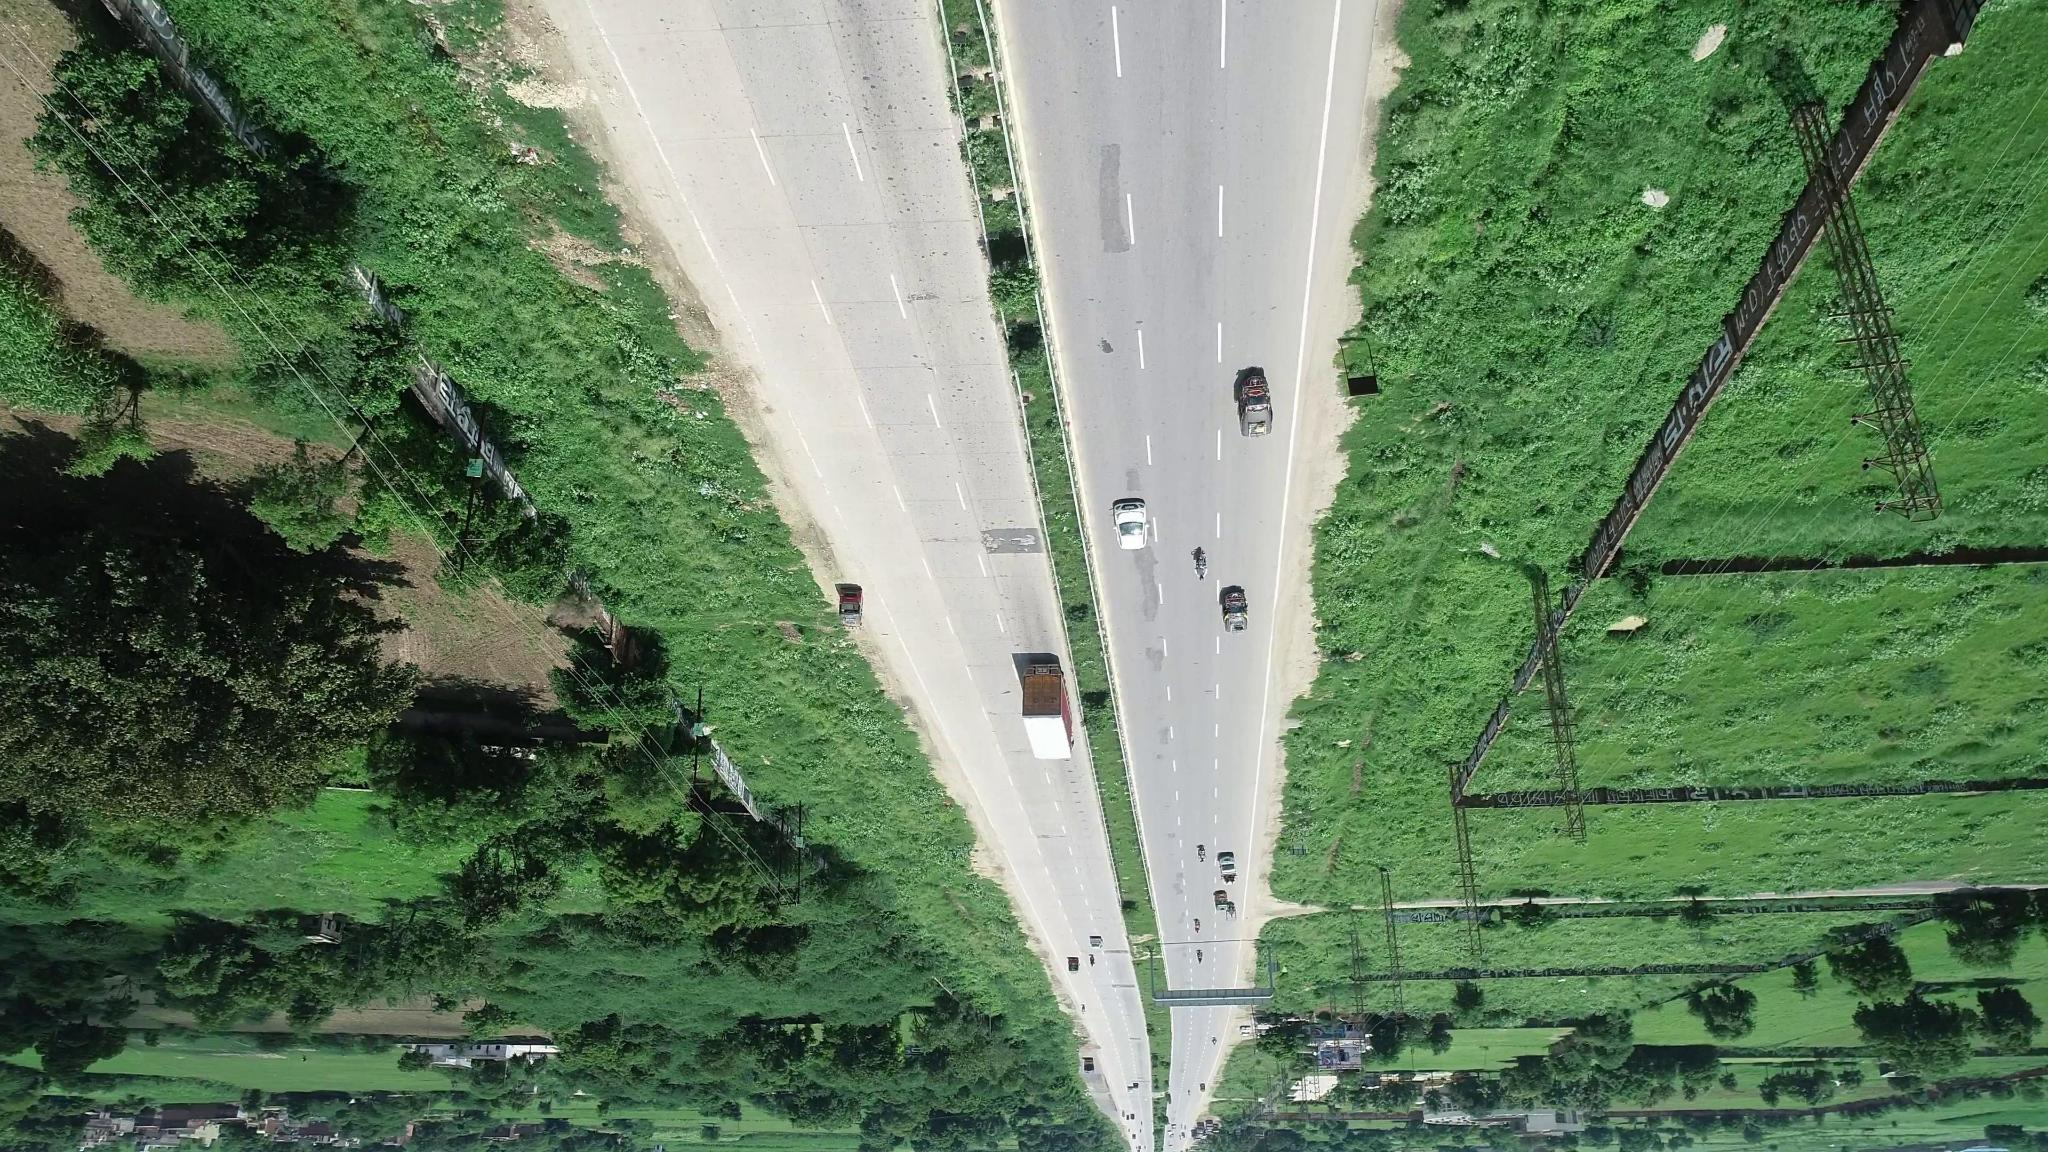Potholes: (979, 533, 1034, 558)
